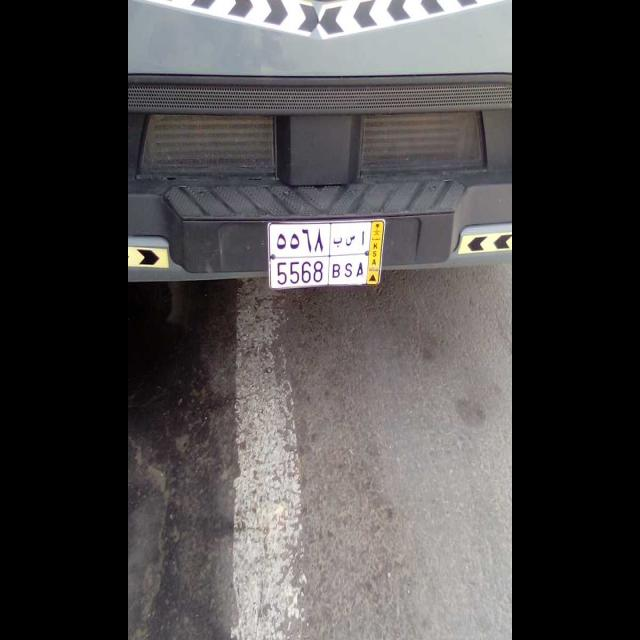license_plate: (272, 253, 370, 288)
